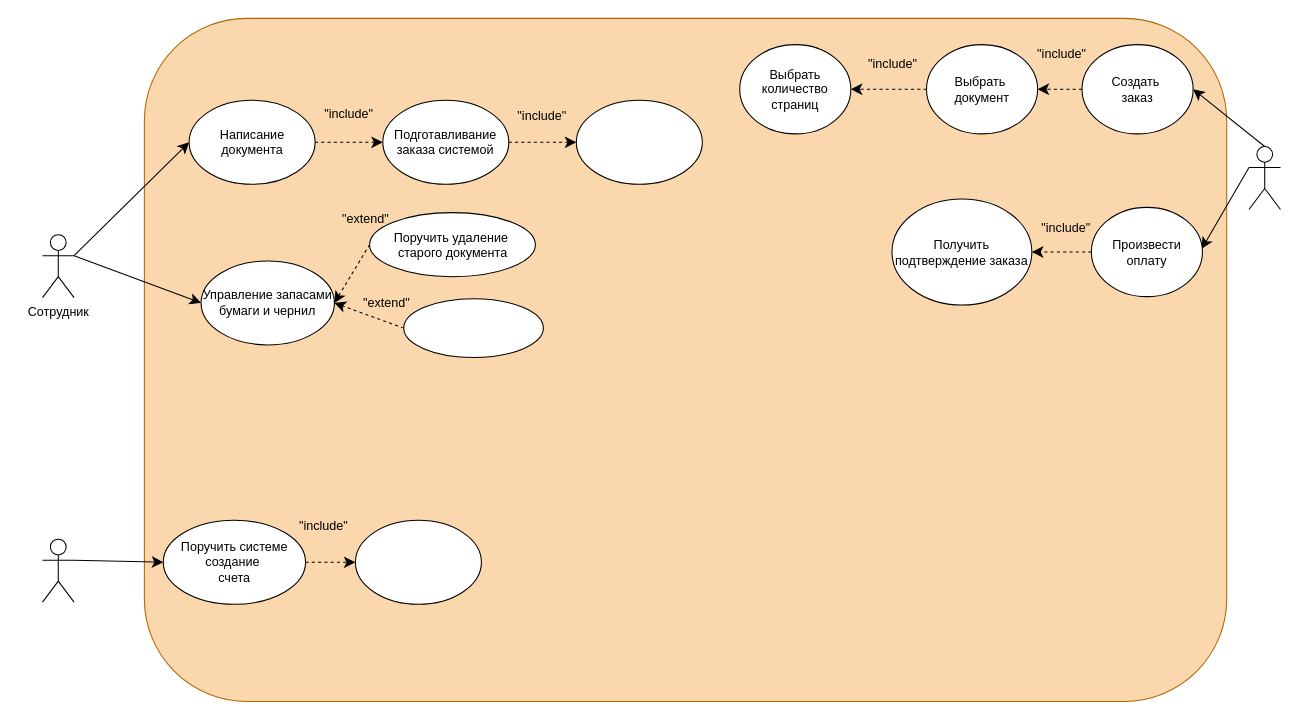
This 1304x720 diagram has some shape labels left out. The shapes that lost their labels are listed below. From the top down, each one's centre as x and y in pixels, then its label:
At pixel 638 141: "Отправка товара клиенту".
At pixel 1264 177: "Клиент".
At pixel 473 328: "Назначить загрузку нового документа".
At pixel 57 570: "Руководитель".
At pixel 417 561: "Отправка счета клиенту на оплату".
